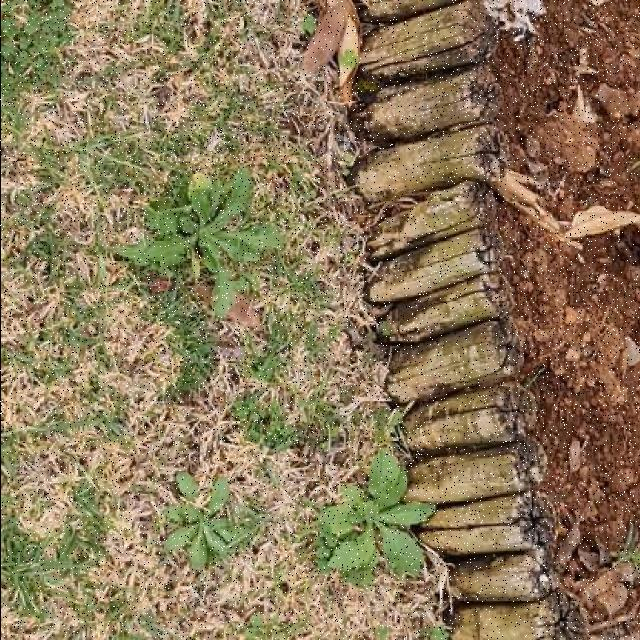weed: (116, 169, 282, 318), (316, 452, 434, 588), (165, 475, 255, 569)
